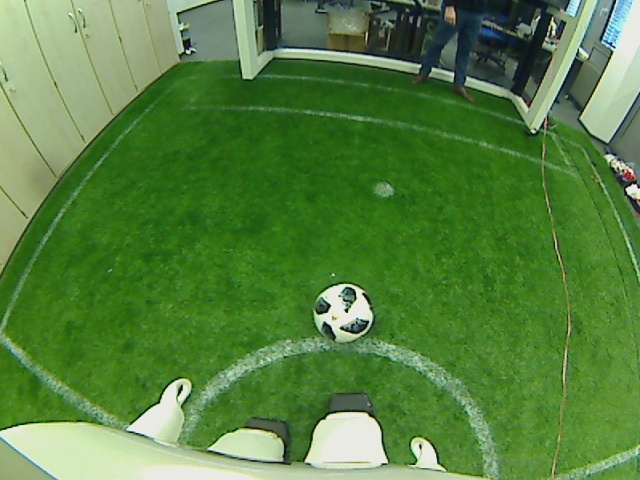ball: (310, 280, 375, 343)
